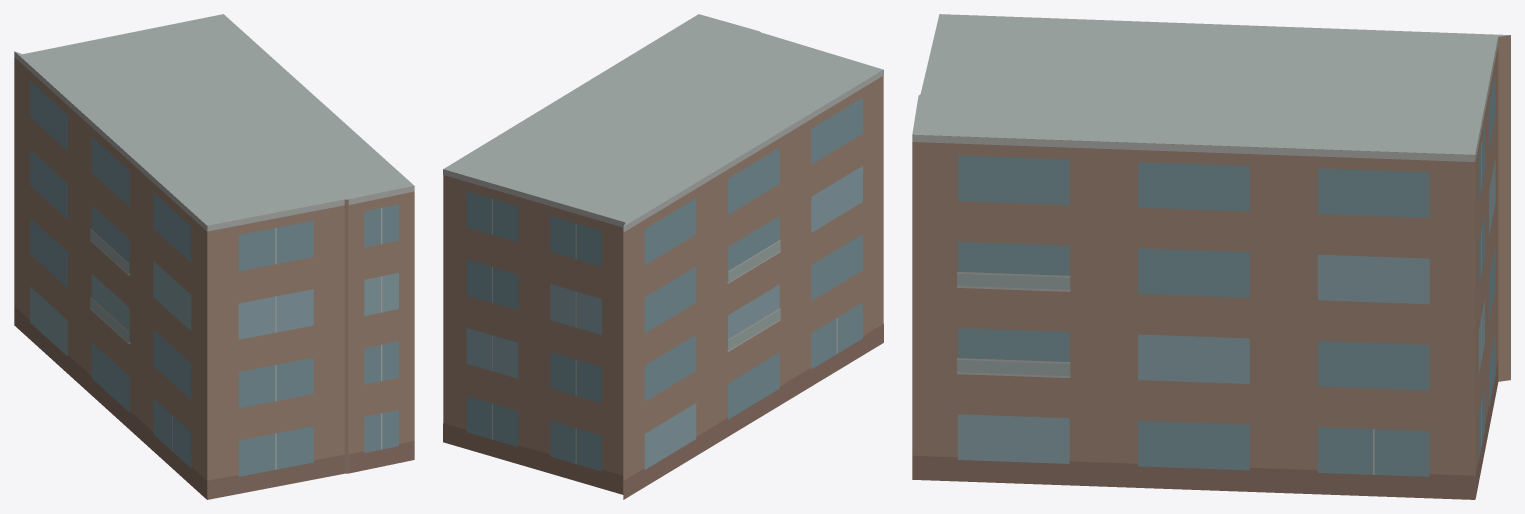
Rendered from survey-upis-32751921.glb.
The picture shows the model from 3 angles, left to right: view 1: azimuth 30°, elevation 25°; view 2: azimuth 150°, elevation 25°; view 3: azimuth 270°, elevation 25°; orthographic projection. The views are drawn at different scales.
Visible parts, largest first — view 1: survey-upis-32751921.tmp; view 2: survey-upis-32751921.tmp; view 3: survey-upis-32751921.tmp.
Part boxes in pixels (x1,y1,x2,y2): survey-upis-32751921.tmp: (14, 14, 414, 499); survey-upis-32751921.tmp: (443, 14, 883, 499); survey-upis-32751921.tmp: (912, 14, 1510, 499).
Size of the model in its own units: 10.17 by 11.6 by 18.25.
